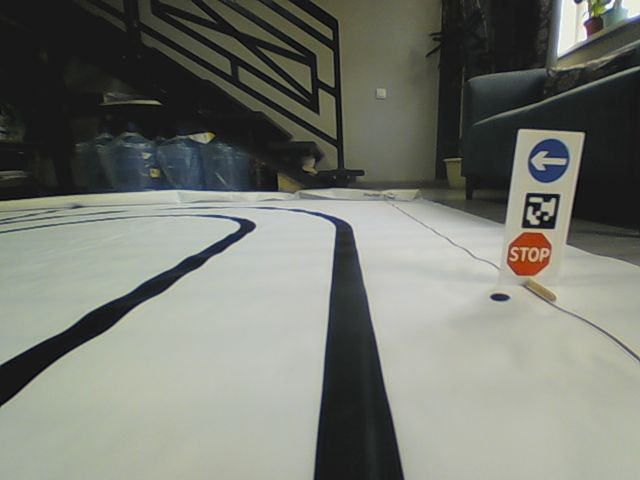Stop: (506, 231, 552, 278)
